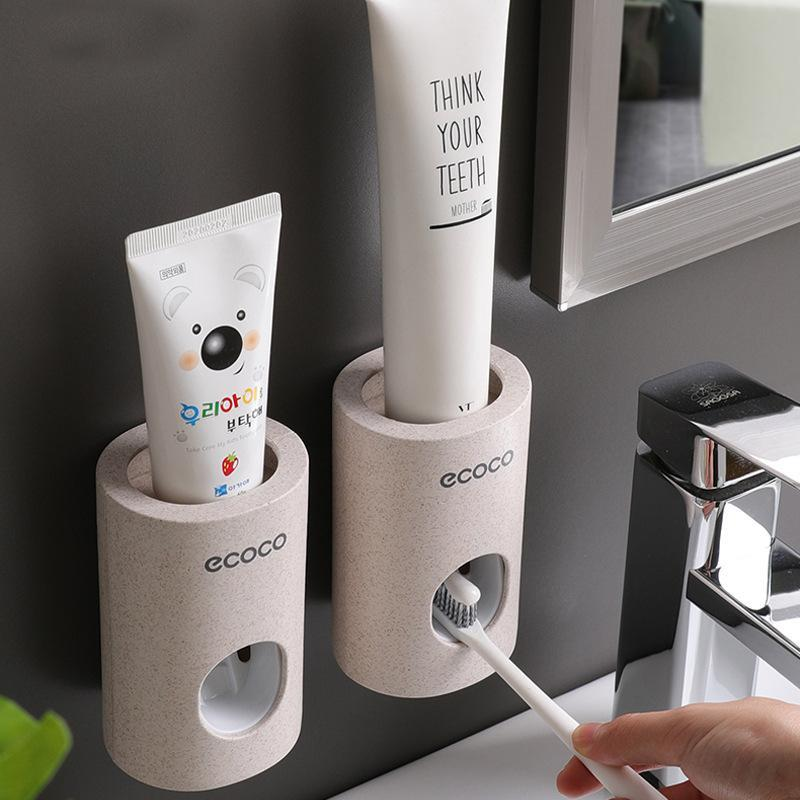toothpaste: (342, 0, 525, 419), (123, 212, 293, 503)
